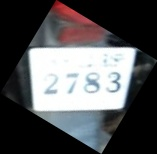character: (42, 72, 58, 95), (84, 72, 100, 94), (105, 71, 120, 93), (65, 73, 80, 94)
